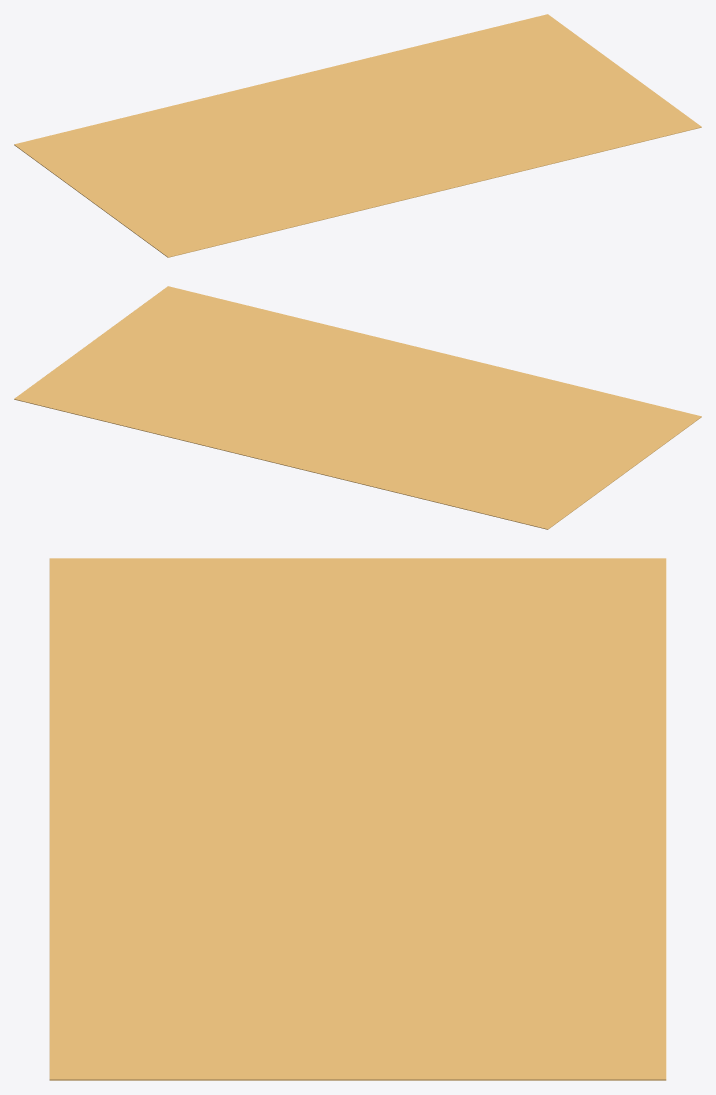
File: DesertGround.glb
3 renders of one model, top to bottom at view 1: azimuth 30°, elevation 25°; view 2: azimuth 150°, elevation 25°; view 3: azimuth 270°, elevation 25°, orthographic. The views are drawn at different scales.
Parts seen in each view (by area): view 1: Ground_col; view 2: Ground_col; view 3: Ground_col.
Part boxes in pixels (x1=…): Ground_col: x1=14, y1=14, x2=701, y2=257; Ground_col: x1=14, y1=286, x2=701, y2=529; Ground_col: x1=49, y1=558, x2=666, y2=1080.
Bounding box in the file's own units: 200 × 0.25 × 100.
1 material, 1 textured.
